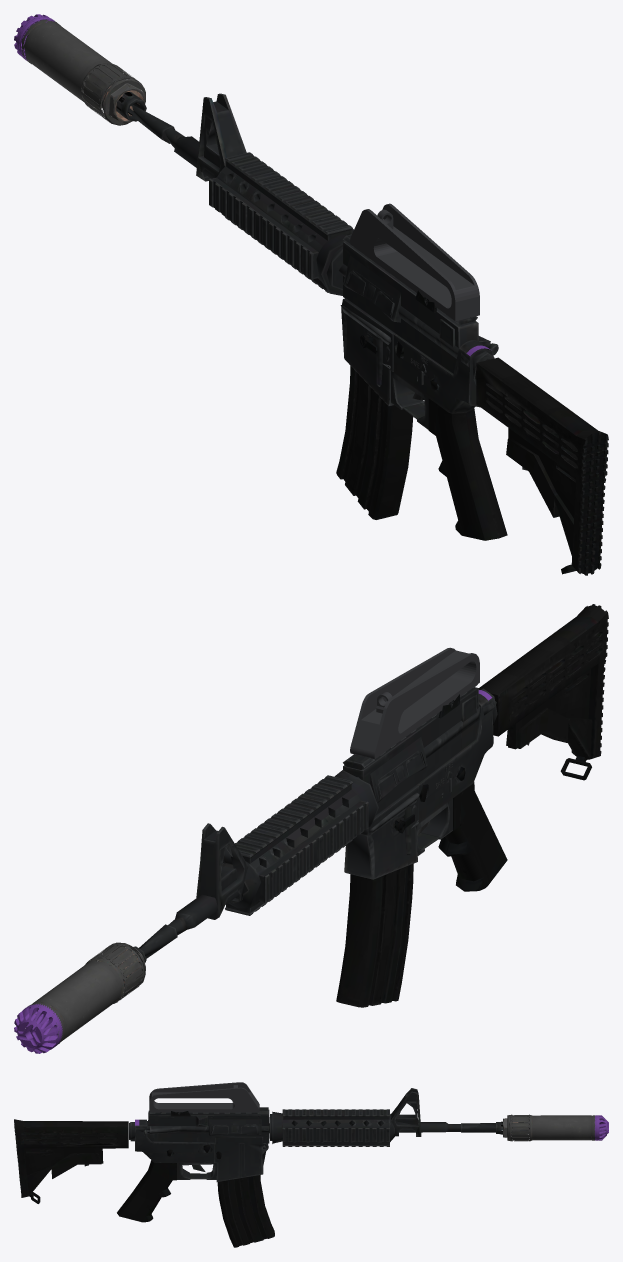
File: m4a1-world.glb
3 renders of one model, top to bottom at view 1: azimuth 30°, elevation 25°; view 2: azimuth 150°, elevation 25°; view 3: azimuth 270°, elevation 25°, orthographic. The views are drawn at different scales.
Parts seen in each view (by area): view 1: ReceiverGeometry, MagazineGeometry, CarryHandleGeometry, SuppressorGeometry; view 2: ReceiverGeometry, MagazineGeometry, CarryHandleGeometry, SuppressorGeometry; view 3: ReceiverGeometry, MagazineGeometry, SuppressorGeometry, CarryHandleGeometry.
Part boxes in pixels (x1,y1,x2,y2): ReceiverGeometry: (93, 76, 608, 575); MagazineGeometry: (336, 360, 413, 519); CarryHandleGeometry: (350, 203, 479, 321); SuppressorGeometry: (14, 14, 145, 125); ReceiverGeometry: (111, 604, 608, 980); MagazineGeometry: (336, 861, 417, 1007); CarryHandleGeometry: (350, 647, 479, 759); SuppressorGeometry: (14, 942, 145, 1053); ReceiverGeometry: (14, 1088, 529, 1222); MagazineGeometry: (217, 1174, 274, 1247); SuppressorGeometry: (503, 1114, 608, 1141); CarryHandleGeometry: (149, 1082, 259, 1112).
Bounding box in the file's own units: 0.1123 × 0.5693 × 1.93.
Materials: 4 (2 with a texture image).
